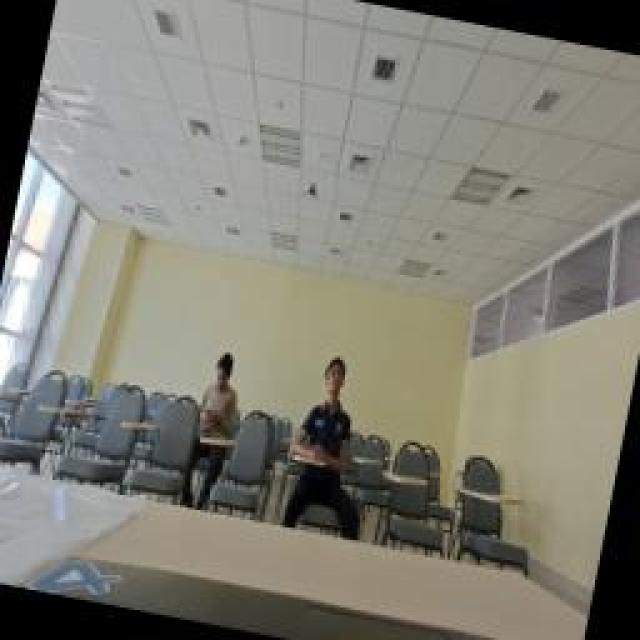phone: (190, 345, 248, 440)
study: (295, 340, 373, 465)
